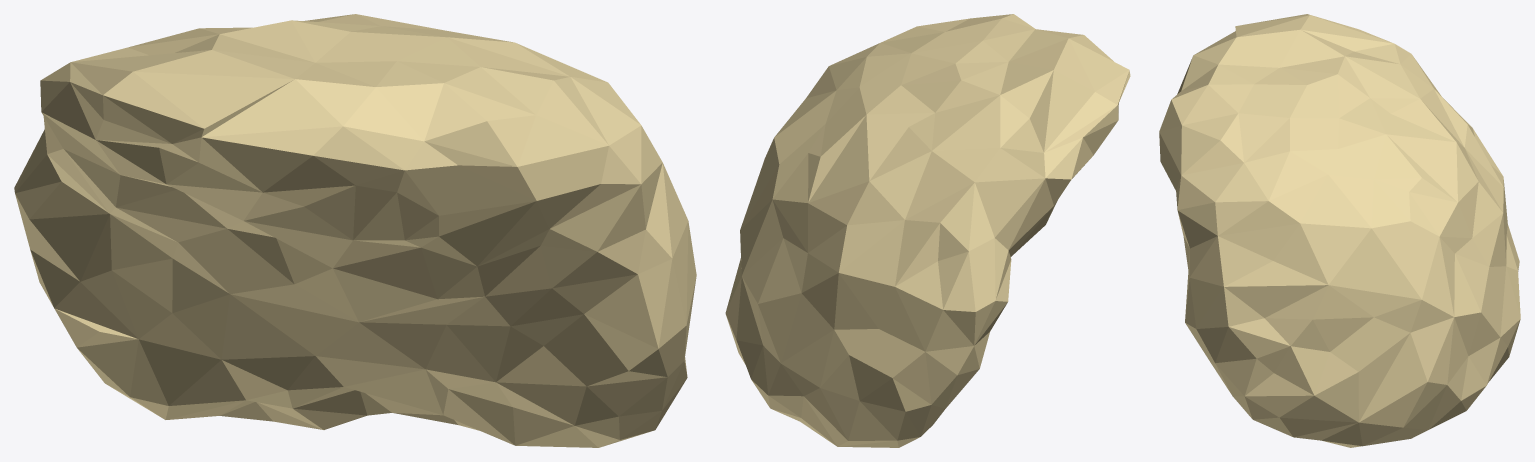
Rendered from Asteroid (58).fbx.
3 renders of one model, left to right at view 1: azimuth 30°, elevation 25°; view 2: azimuth 150°, elevation 25°; view 3: azimuth 270°, elevation 25°, orthographic. The views are drawn at different scales.
Parts seen in each view (by area): view 1: Asteroid206; view 2: Asteroid206; view 3: Asteroid206.
Part boxes in pixels (box(x1,y1,x2,y2)): Asteroid206: box(14, 14, 696, 447); Asteroid206: box(725, 14, 1130, 447); Asteroid206: box(1159, 14, 1520, 447).
Size of the model in its own units: 494 by 445 by 467.
